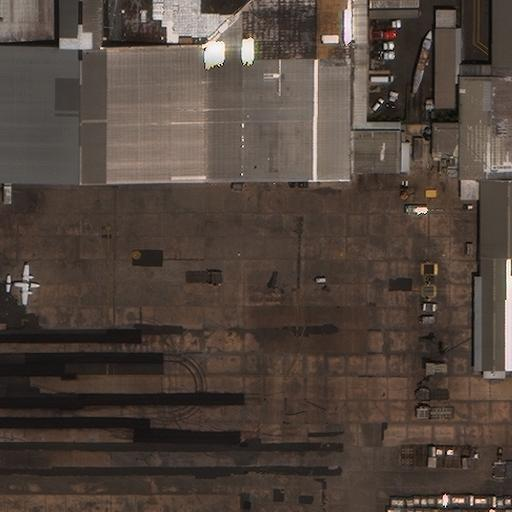Small Civil Transport: (5, 265, 39, 304)
